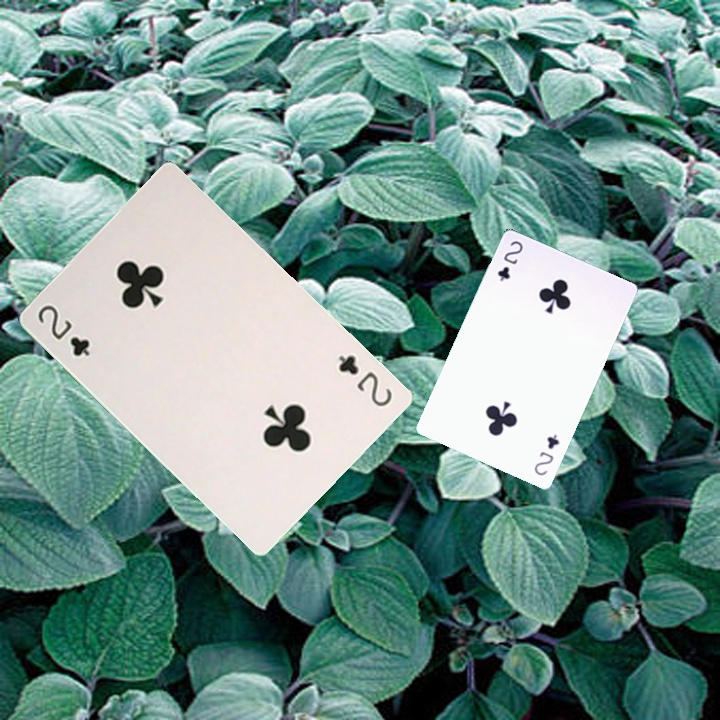2c: (334, 351, 395, 410), (33, 301, 93, 359), (493, 236, 526, 284), (530, 430, 562, 478)
